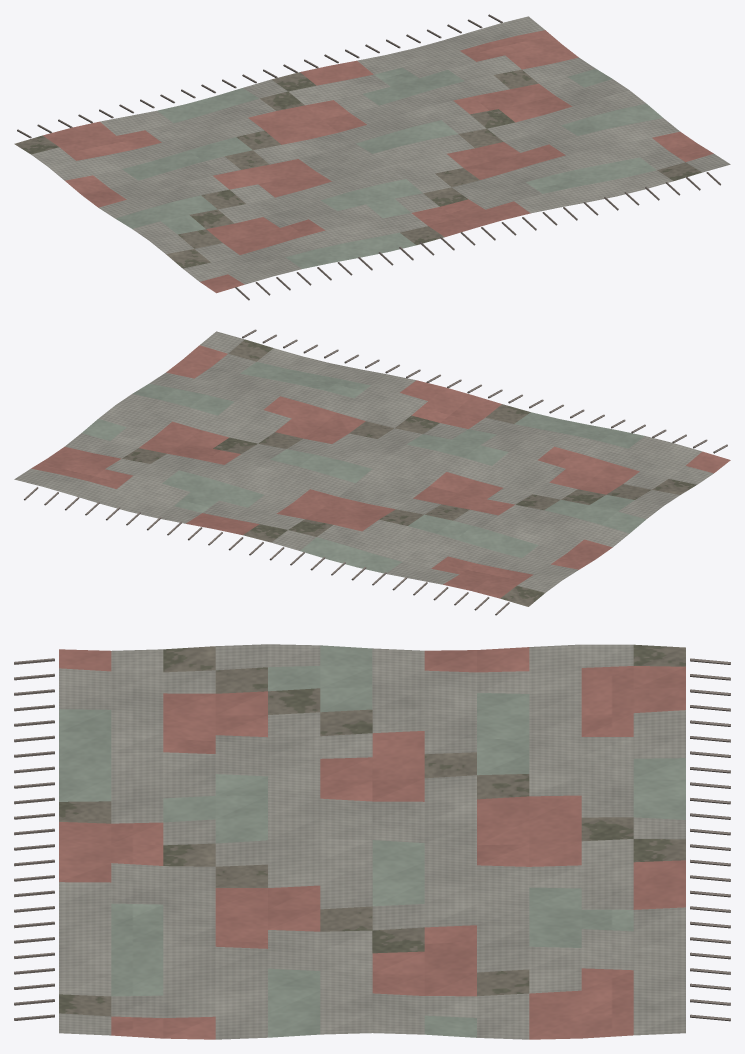
File: threadbare_area_rug.glb
3 views of the same model, one above another, from view 1: azimuth 30°, elevation 25°; view 2: azimuth 150°, elevation 25°; view 3: azimuth 270°, elevation 25° (orthographic). The views are drawn at different scales.
Visible parts, largest first — view 1: InteriorPropGeometry; view 2: InteriorPropGeometry; view 3: InteriorPropGeometry.
Boxes of the visible parts, x1=… form: InteriorPropGeometry: x1=14, y1=14, x2=730, y2=300; InteriorPropGeometry: x1=14, y1=329, x2=730, y2=615; InteriorPropGeometry: x1=14, y1=644, x2=730, y2=1039.
Bounding box in the file's own units: 2.26 × 0.0188 × 1.76.
Materials: 5 (5 with a texture image).
